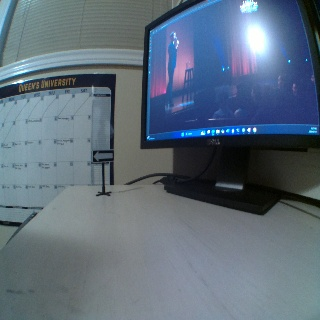sign_oneway_left: (91, 149, 114, 162)
